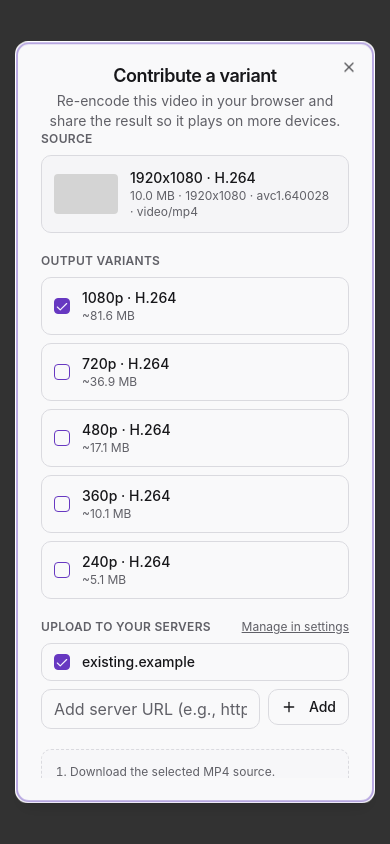
Test: ContributeVariantDialog inline server add › rejects a duplicate URL with an inline error
Step 1. Type "existing.example" into the field with placeholder "Add server URL (e.g., https://blossom.primal.net)" → (150, 709), box [41,689,260,729]
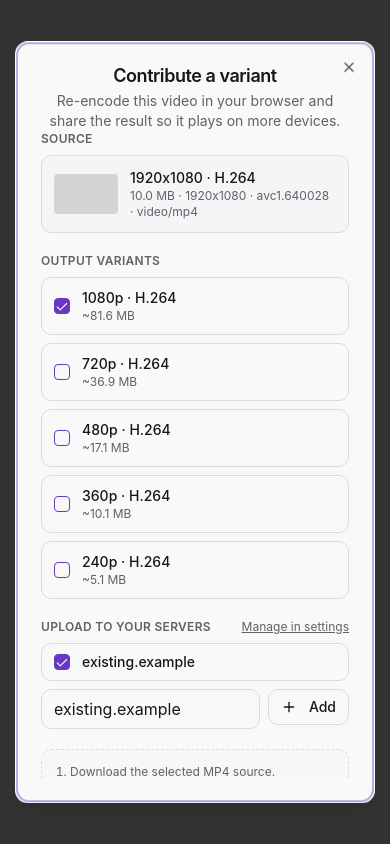
Step 2. Click the button "Add" → (308, 707), box [268,689,349,725]
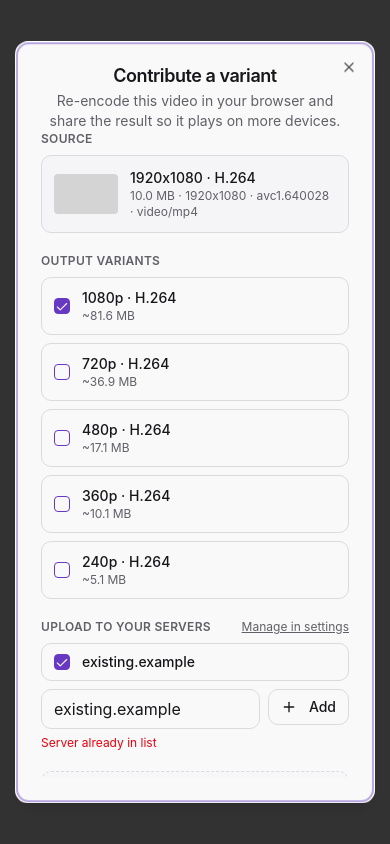
Result: the text "Server already in list" is shown at [41,735,157,750]
